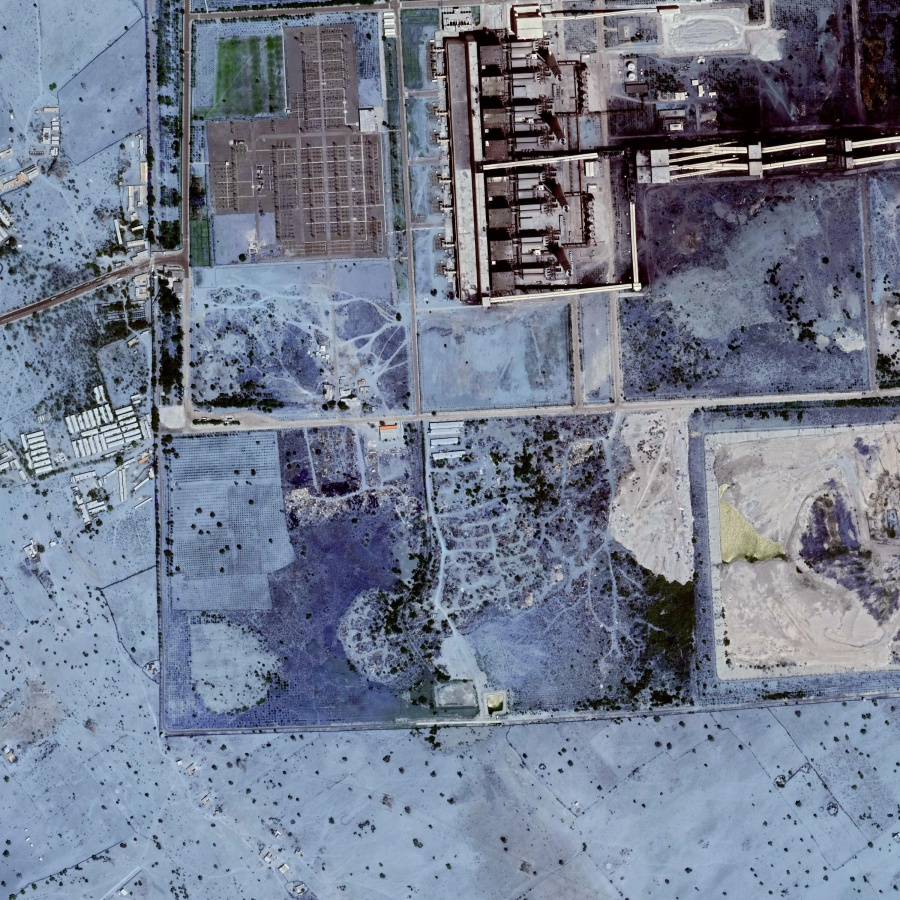PowerPlant: (438, 9, 637, 294)
